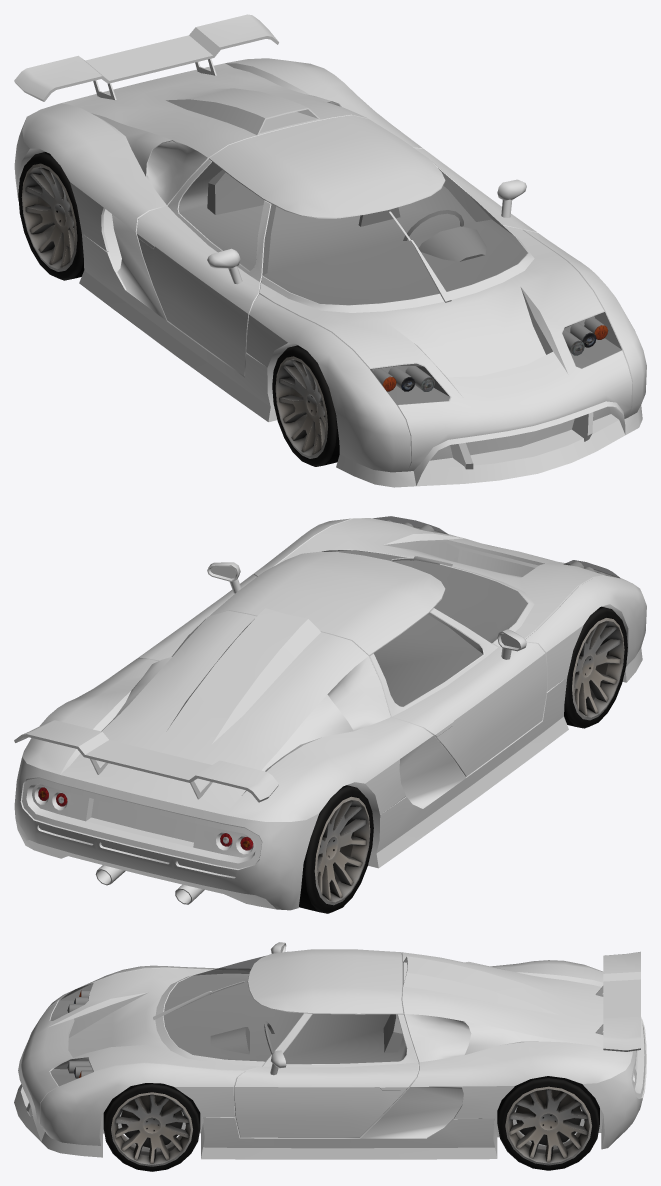
File: generic-sport.glb
3 renders of one model, top to bottom at view 1: azimuth 30°, elevation 25°; view 2: azimuth 150°, elevation 25°; view 3: azimuth 270°, elevation 25°, orthographic. The views are drawn at different scales.
Parts seen in each view (by area): view 1: Sport body_Body_0, Sport body_Glass_0, Wheel_H003_Wheel_0, Wheel_H002_Wheel_0, Sport body_Optics_0; view 2: Sport body_Body_0, Sport body_Glass_0, Wheel_H003_Wheel_0, Wheel_H002_Wheel_0; view 3: Sport body_Body_0, Sport body_Glass_0, Wheel_H001_Wheel_0, Wheel_H_Wheel_0.
Boxes of the visible parts, x1,y1,x2,y2 form: Sport body_Body_0: (14,14,646,487); Sport body_Glass_0: (179,162,621,404); Wheel_H003_Wheel_0: (18,152,84,280); Wheel_H002_Wheel_0: (272,345,339,466); Sport body_Optics_0: (383,325,607,391); Sport body_Body_0: (14,518,646,910); Sport body_Glass_0: (322,516,619,706); Wheel_H003_Wheel_0: (299,785,373,913); Wheel_H002_Wheel_0: (564,606,627,728); Sport body_Body_0: (14,942,646,1159); Sport body_Glass_0: (50,956,406,1085); Wheel_H001_Wheel_0: (497,1076,599,1170); Wheel_H_Wheel_0: (103,1083,200,1171).
Size of the model in its own units: 1.77 by 1.04 by 3.91.
4 materials, 2 textured.
